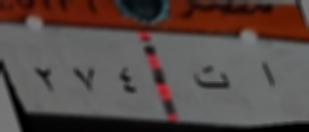2: (34, 62, 60, 93)
4: (115, 63, 145, 100)
7: (69, 62, 99, 92)
alif: (255, 59, 289, 96)
taa: (186, 56, 233, 99)
